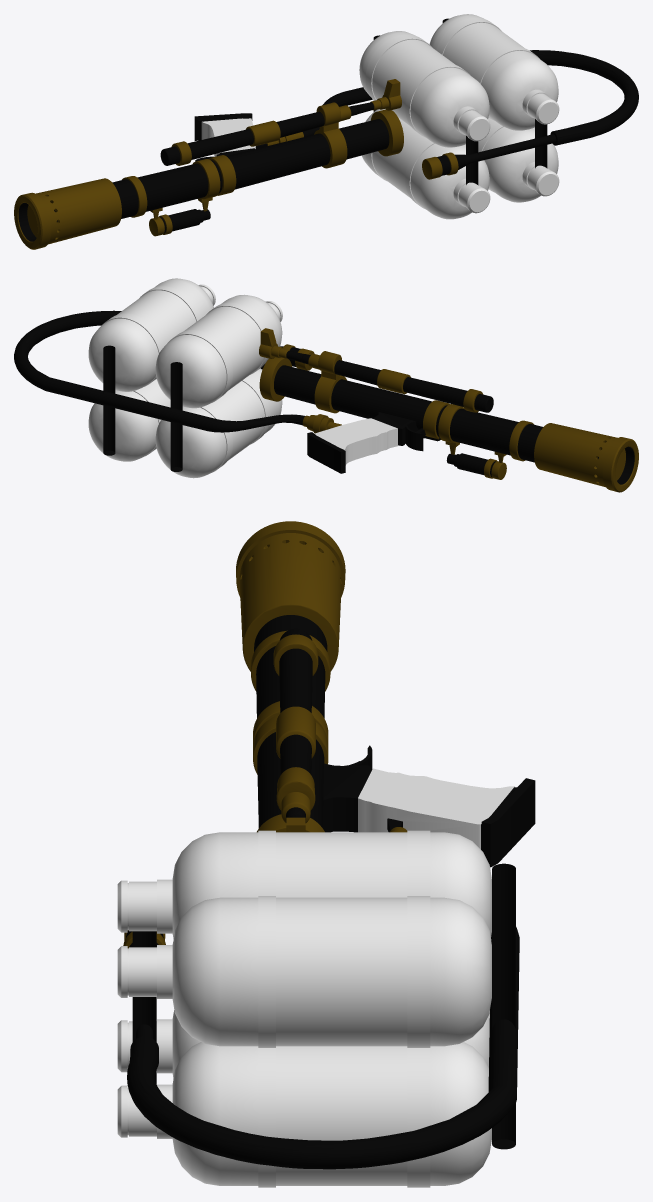
File: Flamethrower.fbx
3 renders of one model, top to bottom at view 1: azimuth 30°, elevation 25°; view 2: azimuth 150°, elevation 25°; view 3: azimuth 270°, elevation 25°, orthographic. The views are drawn at different scales.
Visible parts, largest first — view 1: Wye Joint.001, Wye Joint.005, Wye Joint.002, Wye Joint.004; view 2: Wye Joint.001, Wye Joint.005, Wye Joint.002, Wye Joint.004; view 3: Wye Joint.001, Wye Joint.005, Wye Joint.002, Wye Joint.004.
Boxes of the visible parts, <box> form: Wye Joint.001: <box>359,14,559,219</box>; Wye Joint.005: <box>14,79,403,249</box>; Wye Joint.002: <box>266,18,638,185</box>; Wye Joint.004: <box>194,113,267,161</box>; Wye Joint.001: <box>88,278,282,478</box>; Wye Joint.005: <box>259,328,638,492</box>; Wye Joint.002: <box>14,310,341,471</box>; Wye Joint.004: <box>307,412,440,473</box>; Wye Joint.001: <box>117,830,491,1187</box>; Wye Joint.005: <box>236,521,345,832</box>; Wye Joint.002: <box>123,827,519,1169</box>; Wye Joint.004: <box>322,745,535,867</box>.
Size of the model in its own units: 11.62 by 2.61 by 3.56.
